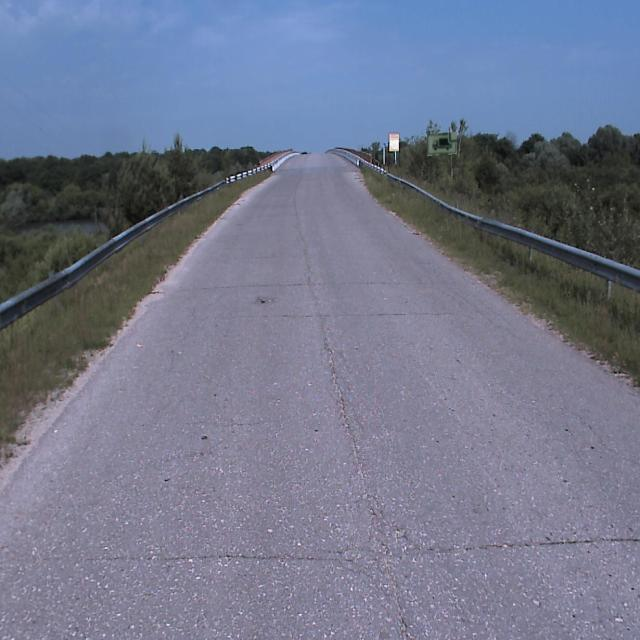road: (0, 152, 639, 639)
